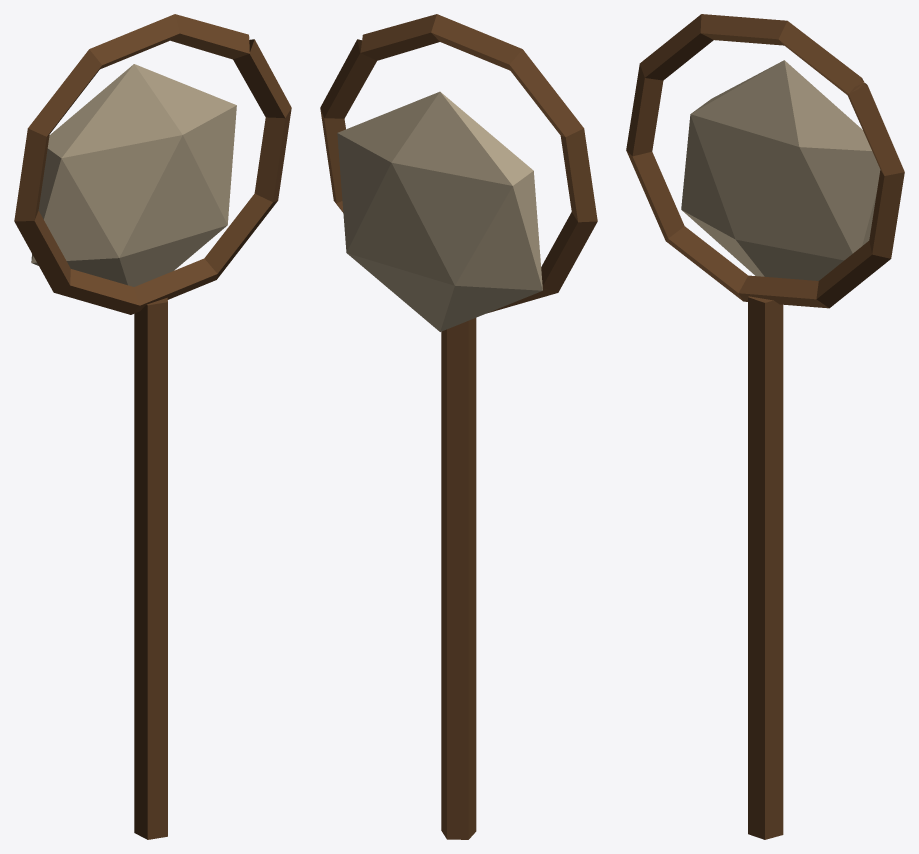
The model's file is gear_net.glb.
3 views of the same model, side by side, from view 1: azimuth 30°, elevation 25°; view 2: azimuth 150°, elevation 25°; view 3: azimuth 330°, elevation 25° (orthographic).
Parts seen in each view (by area): view 1: gear_net; view 2: gear_net; view 3: gear_net.
Part boxes in pixels (x1,y1,x2,y2): gear_net: (14, 14, 291, 839); gear_net: (320, 14, 597, 839); gear_net: (626, 14, 904, 839).
Bounding box in the file's own units: 0.2607 × 0.7304 × 0.0709.
